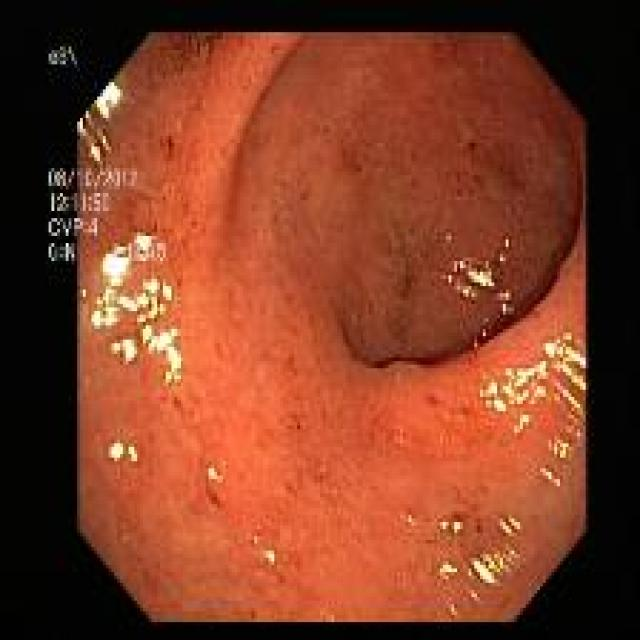ulcerative-colitis: (80, 33, 585, 621)
